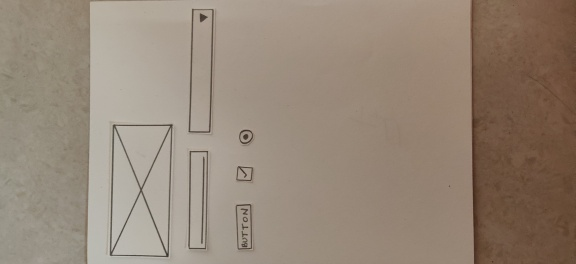button: (232, 200, 255, 252)
checkbox: (232, 164, 256, 184)
dropdown: (186, 6, 216, 137)
img: (105, 119, 174, 261)
radio: (237, 127, 256, 146)
text: (185, 147, 213, 253)
